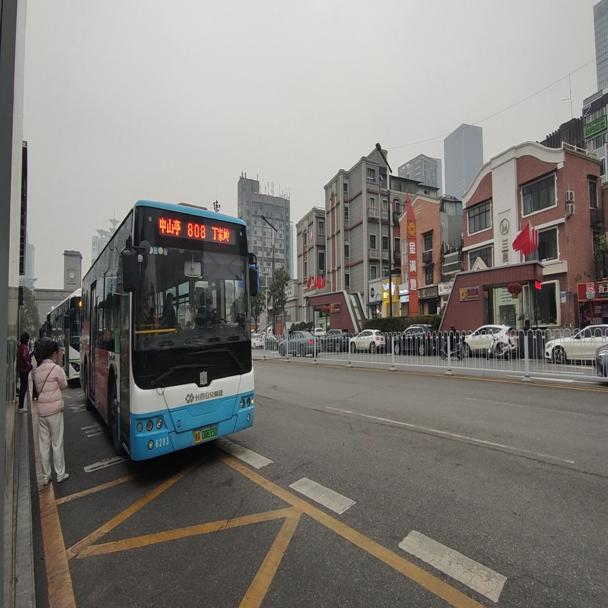bus: (81, 198, 256, 460), (41, 288, 83, 382)
screen: (185, 218, 206, 238)
